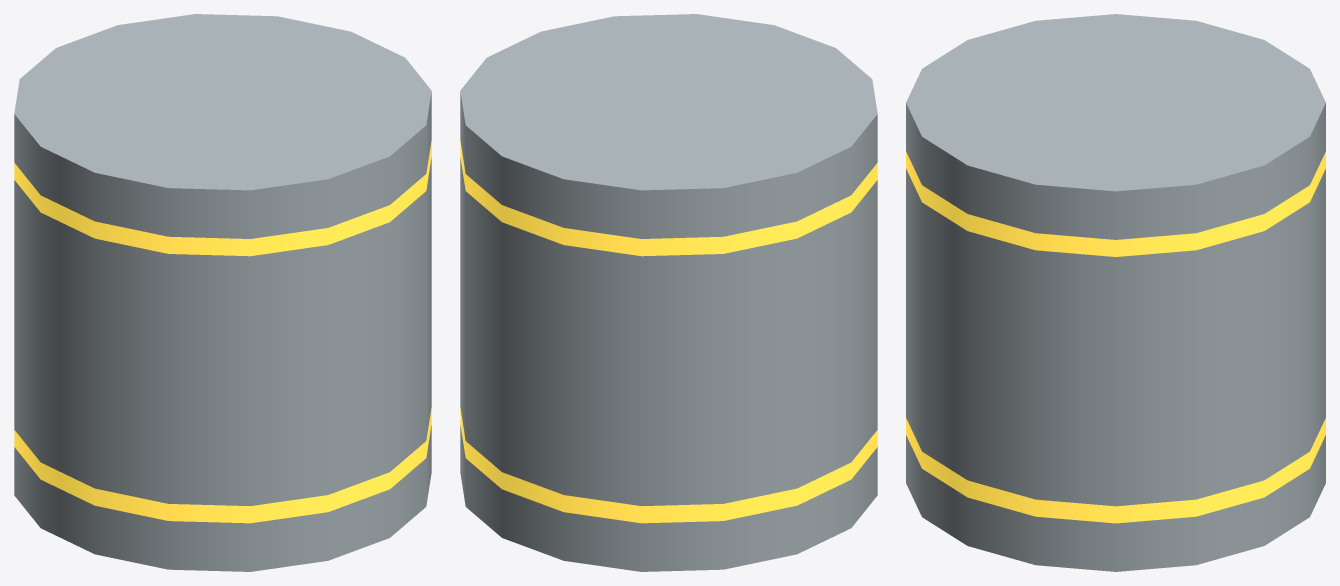
3 views of the same model, side by side, from view 1: azimuth 30°, elevation 25°; view 2: azimuth 150°, elevation 25°; view 3: azimuth 270°, elevation 25° (orthographic).
Parts seen in each view (by area): view 1: SM_Cylinder_v0; view 2: SM_Cylinder_v0; view 3: SM_Cylinder_v0.
Boxes of the visible parts, x1,y1,x2,y2 form: SM_Cylinder_v0: [14, 14, 431, 571]; SM_Cylinder_v0: [460, 14, 877, 571]; SM_Cylinder_v0: [906, 14, 1325, 571].
Bounding box in the file's own units: 1 × 1 × 1.
